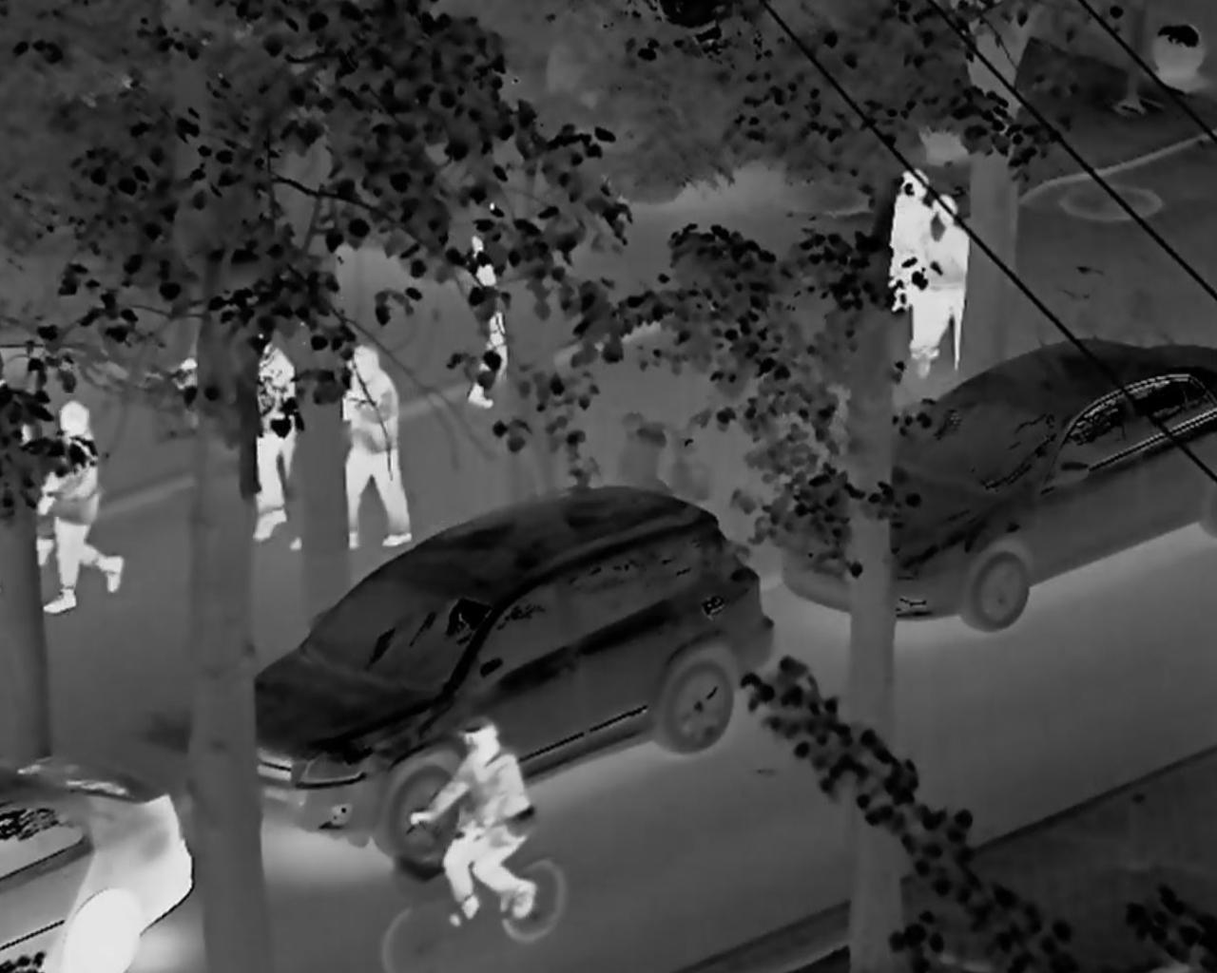person: (379, 724, 581, 946), (37, 388, 133, 625), (327, 345, 414, 553), (242, 331, 312, 554), (857, 164, 934, 353), (440, 228, 515, 414), (918, 186, 981, 396)
